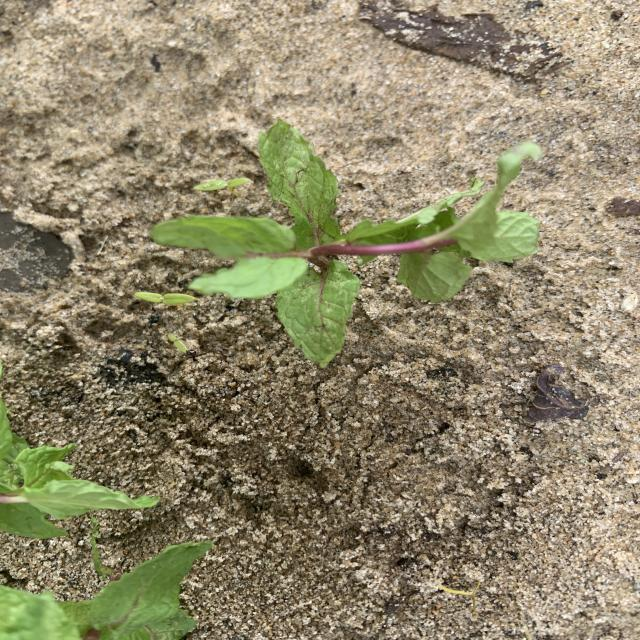crop: (151, 120, 542, 367), (0, 399, 159, 538), (0, 541, 212, 640)
weed: (438, 580, 484, 615), (89, 529, 113, 577), (135, 291, 196, 306), (193, 177, 252, 192), (167, 333, 197, 361)
